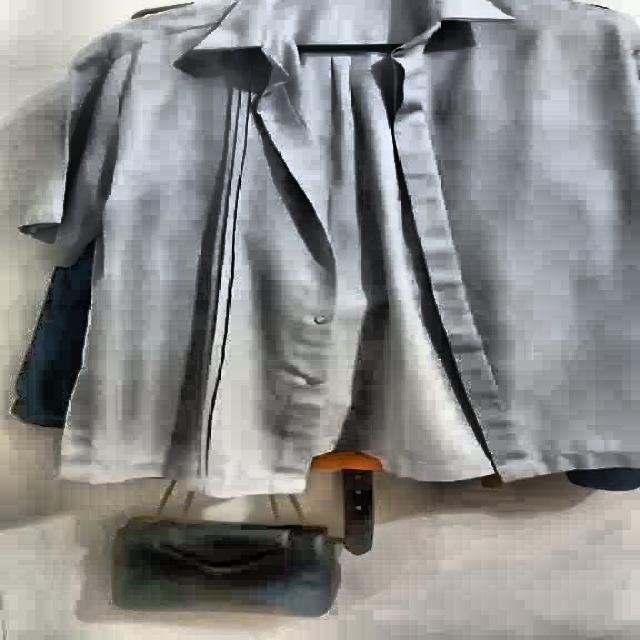clothes: (18, 0, 640, 504)
